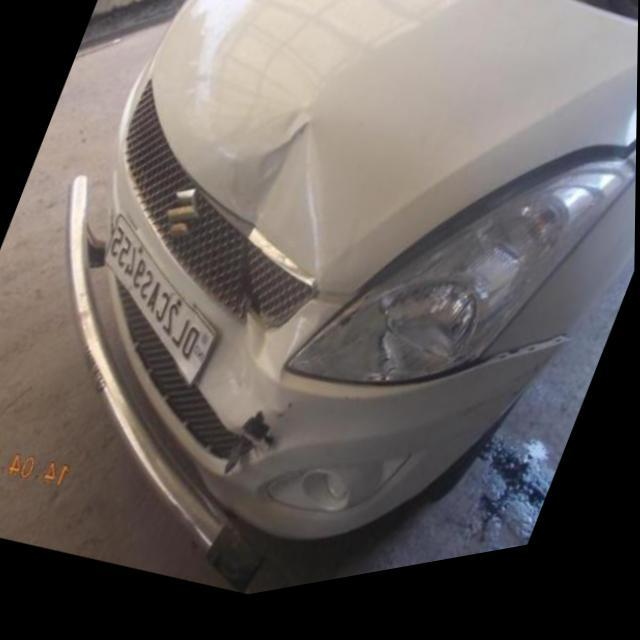crack: (238, 419, 275, 458)
dent: (201, 126, 318, 289), (203, 311, 311, 421)
